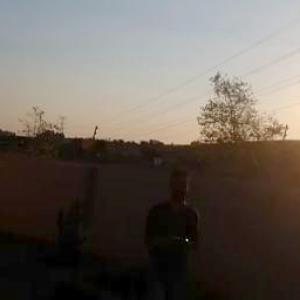follow: (131, 160, 199, 299)
